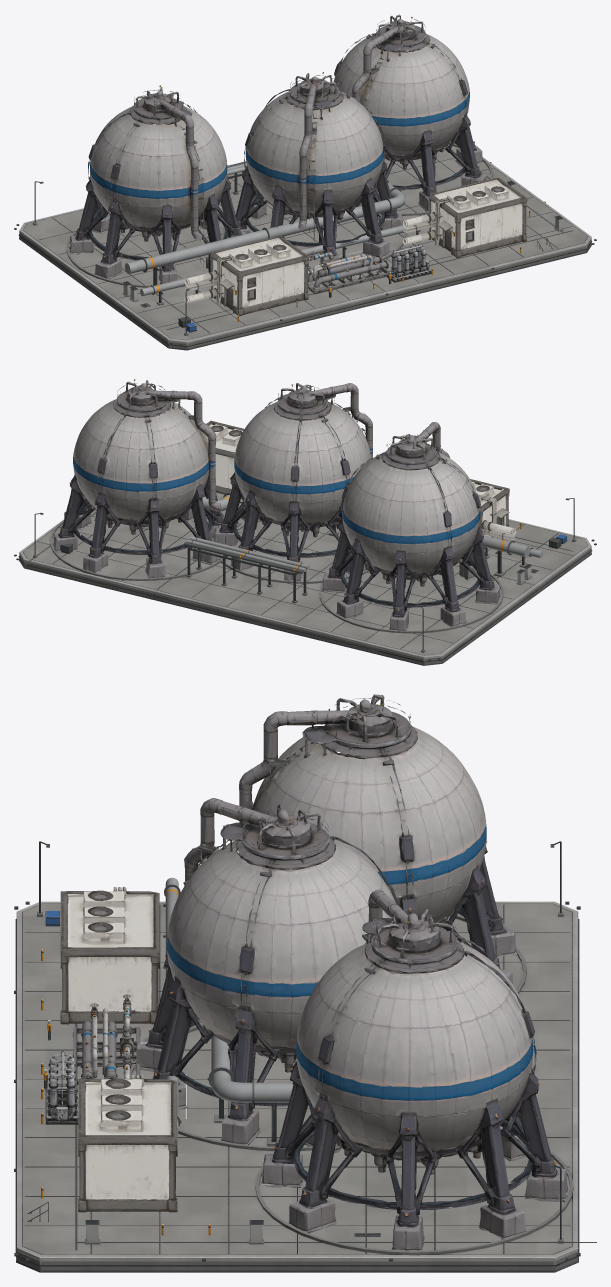
File: deuterium_depot.glb
3 renders of one model, top to bottom at view 1: azimuth 30°, elevation 25°; view 2: azimuth 150°, elevation 25°; view 3: azimuth 270°, elevation 25°, orthographic. The views are drawn at different scales.
Visible parts, largest first — view 1: parts_colony-sphereTank, hull, parts_colony-plantHouse, parts_colony-manifoldSkid, parts_colony-filterBank; view 2: parts_colony-sphereTank, hull, parts_colony-plantHouse; view 3: parts_colony-sphereTank, hull, parts_colony-plantHouse, parts_colony-manifoldSkid, parts_colony-filterBank.
Part boxes in pixels (x1,y1,x2,y2): parts_colony-sphereTank: (69, 14, 486, 284); hull: (14, 141, 596, 350); parts_colony-plantHouse: (184, 178, 527, 316); parts_colony-manifoldSkid: (308, 251, 388, 294); parts_colony-filterBank: (386, 244, 431, 282); parts_colony-sphereTank: (53, 379, 500, 630); hull: (14, 492, 596, 665); parts_colony-plantHouse: (205, 420, 516, 549); parts_colony-sphereTank: (135, 694, 568, 1251); hull: (14, 841, 596, 1272); parts_colony-plantHouse: (60, 886, 177, 1212); parts_colony-manifoldSkid: (72, 994, 140, 1093); parts_colony-filterBank: (45, 1050, 78, 1124).
Bounding box in the file's own units: 72.42 × 27.52 × 49.81.
6 materials, 6 textured.
